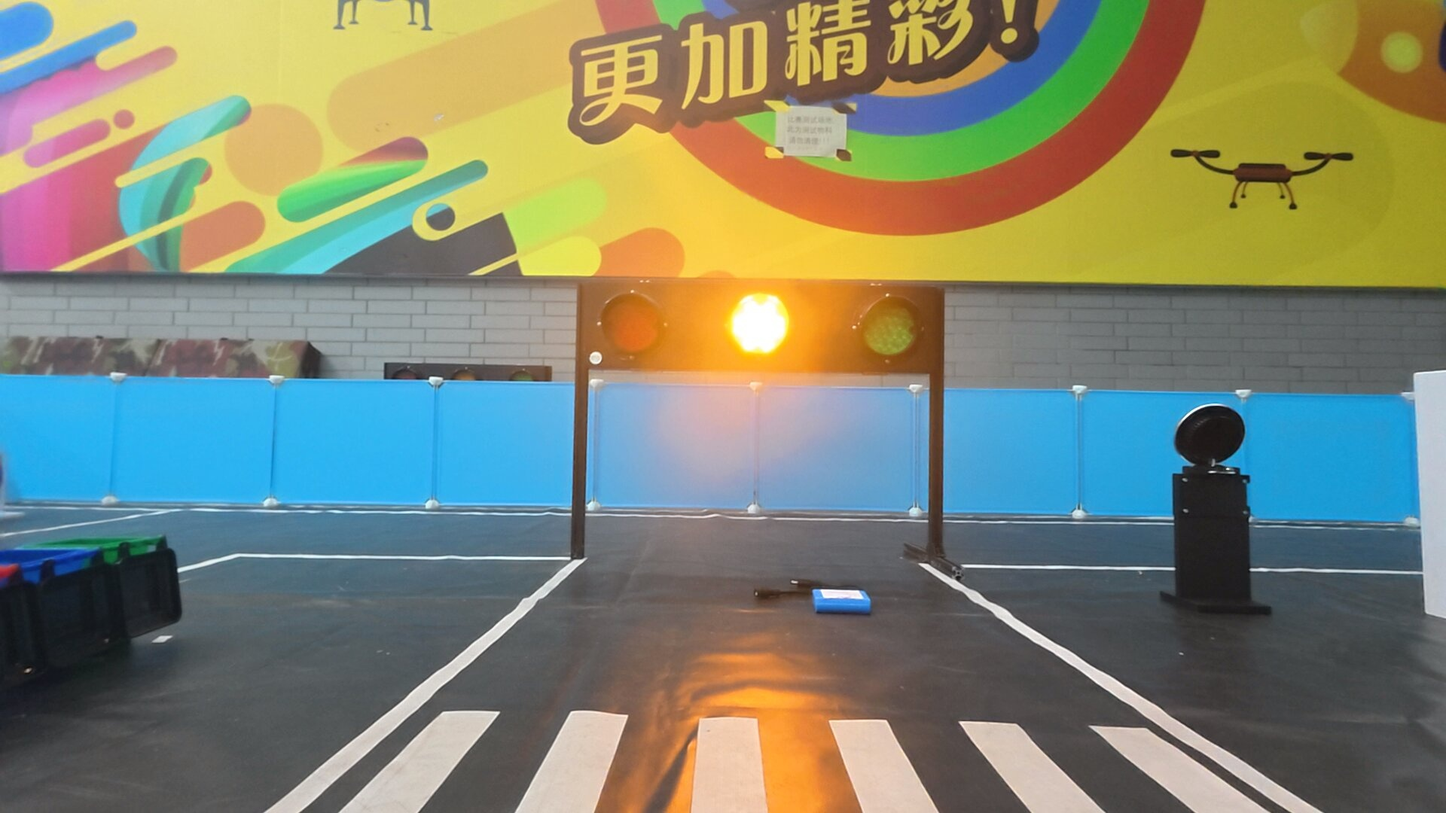stop: (727, 290, 795, 358)
